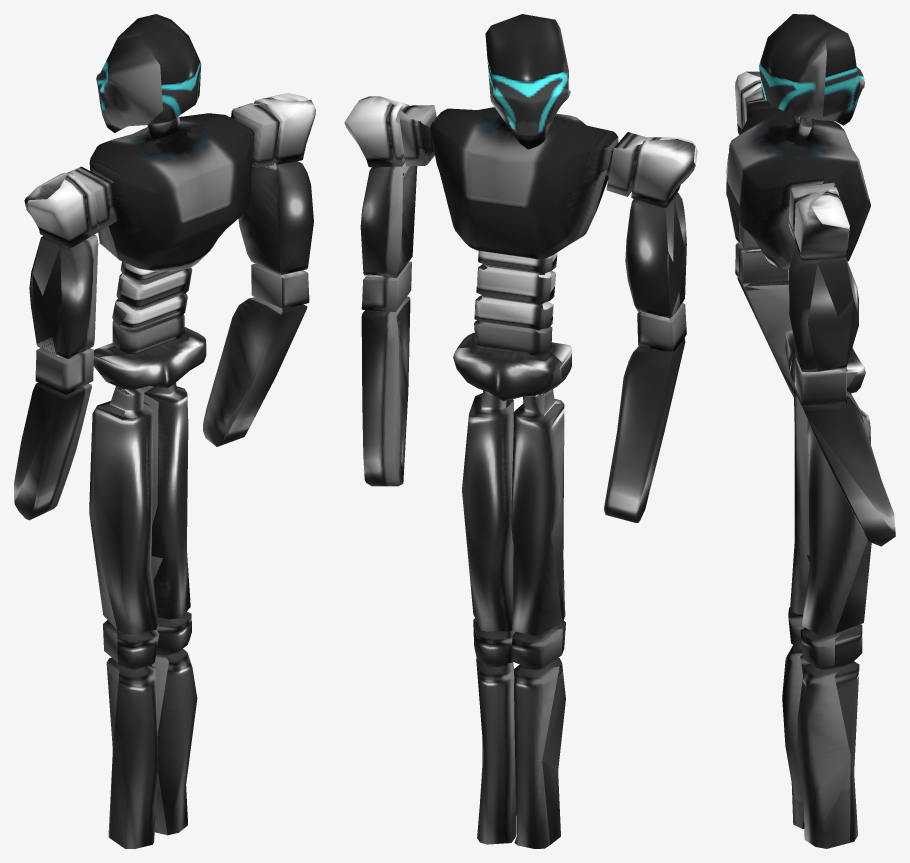
Rendered from frame_040.obj.
3 views of the same model, side by side, from view 1: azimuth 30°, elevation 25°; view 2: azimuth 150°, elevation 25°; view 3: azimuth 270°, elevation 25° (orthographic).
Visible parts, largest first — view 1: Cyborg, PierzaI, PiernaD, AntebrazoD, Cabeza, BrazoD; view 2: Cyborg, PierzaI, PiernaD, AntebrazoD, Cabeza, BrazoD; view 3: PiernaD, Cyborg, AntebrazoD, Cabeza, BrazoD, PierzaI.
Boxes of the visible parts, left/top/right/bottom form: Cyborg: left=14, top=103, right=280, bottom=520; PierzaI: left=89, top=386, right=158, bottom=848; PiernaD: left=141, top=383, right=197, bottom=835; AntebrazoD: left=238, top=93, right=315, bottom=308; Cabeza: left=96, top=14, right=201, bottom=132; BrazoD: left=203, top=297, right=307, bottom=446; Cyborg: left=398, top=105, right=697, bottom=522; PierzaI: left=511, top=389, right=565, bottom=848; PiernaD: left=462, top=390, right=515, bottom=844; AntebrazoD: left=344, top=96, right=417, bottom=311; Cabeza: left=485, top=14, right=570, bottom=149; BrazoD: left=361, top=296, right=410, bottom=486; PiernaD: left=797, top=393, right=871, bottom=848; Cyborg: left=726, top=71, right=870, bottom=397; AntebrazoD: left=788, top=190, right=858, bottom=406; Cabeza: left=759, top=14, right=864, bottom=125; BrazoD: left=802, top=391, right=895, bottom=546; PierzaI: left=782, top=387, right=809, bottom=828.
Bounding box in the file's own units: 9.96 × 24.74 × 4.72.
1 material, 1 textured.
